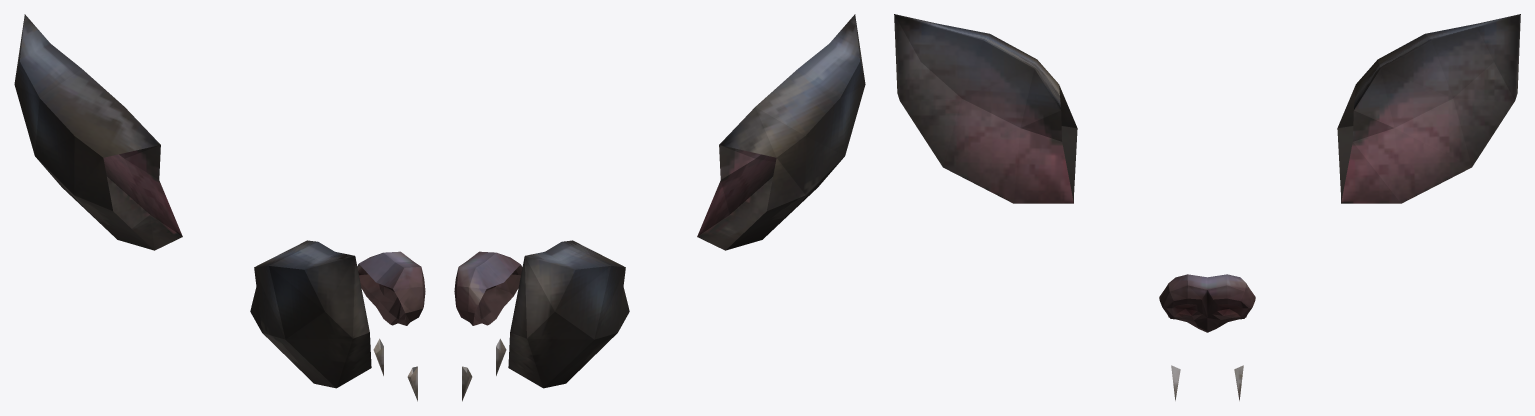
The model's file is BAT MASK.fbx.
3 views of the same model, side by side, from view 1: azimuth 30°, elevation 25°; view 2: azimuth 150°, elevation 25°; view 3: azimuth 270°, elevation 25° (orthographic). The views are drawn at different scales.
Visible parts, largest first — view 1: BAT_MASK; view 2: BAT_MASK; view 3: BAT_MASK.
Part boxes in pixels (box(x1,y1,x2,y2)): BAT_MASK: box(14, 14, 425, 401); BAT_MASK: box(454, 14, 865, 401); BAT_MASK: box(894, 14, 1520, 400).
Bounding box in the file's own units: 22.44 × 25.21 × 49.32.
